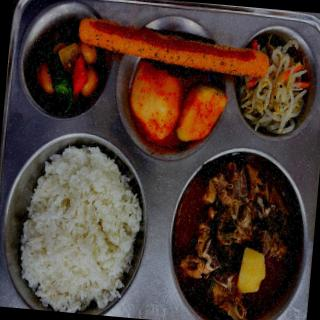Nasi: (6, 138, 145, 319)
